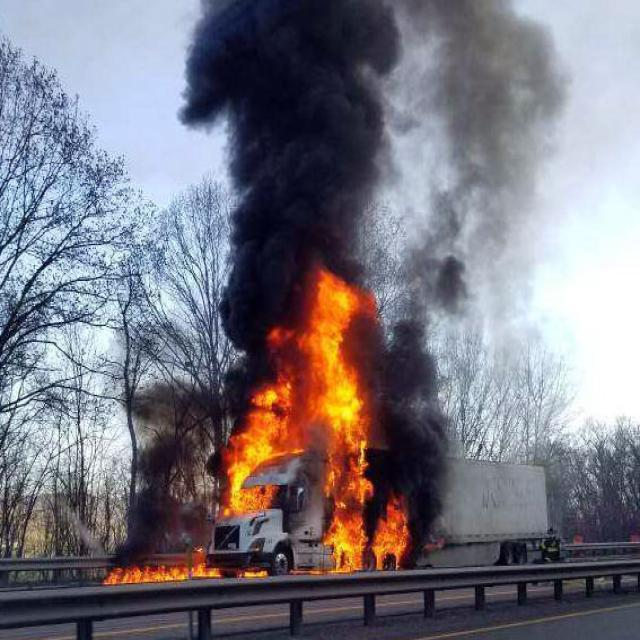Fire: (218, 266, 410, 580), (104, 558, 219, 584)
Smoke: (110, 0, 570, 568)
